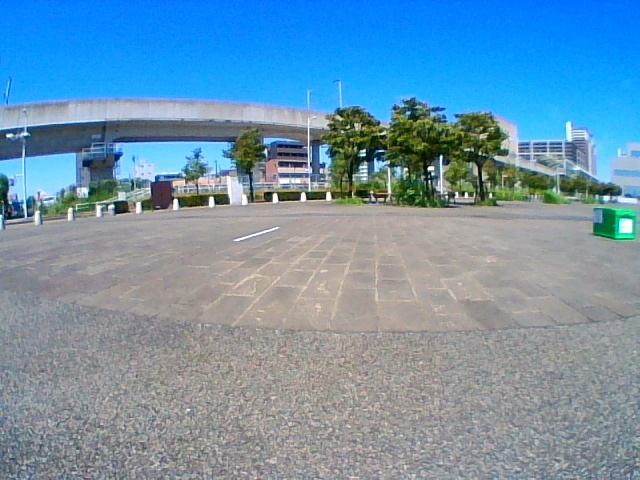green_box: (594, 207, 634, 240)
tag: (593, 210, 604, 222)
